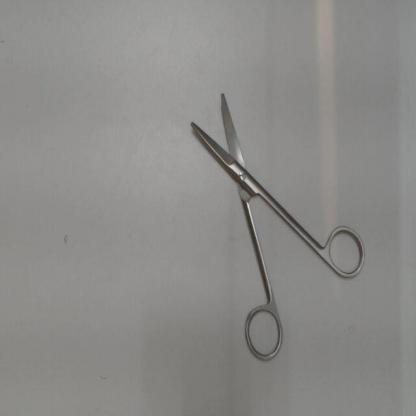Curved Mayo Scissors: (184, 82, 370, 368)
